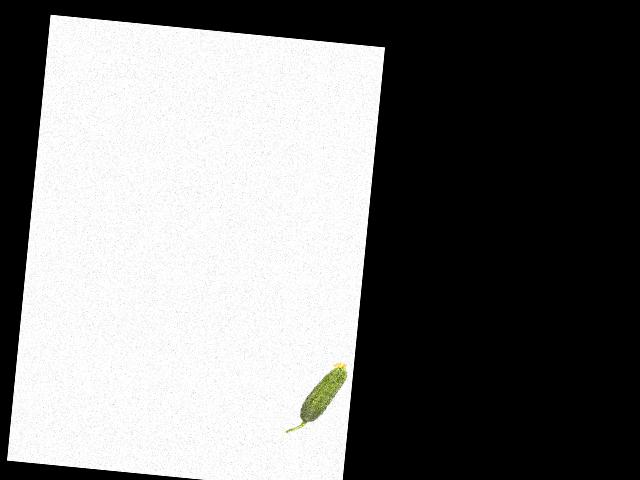cucumber: (286, 356, 349, 437)
